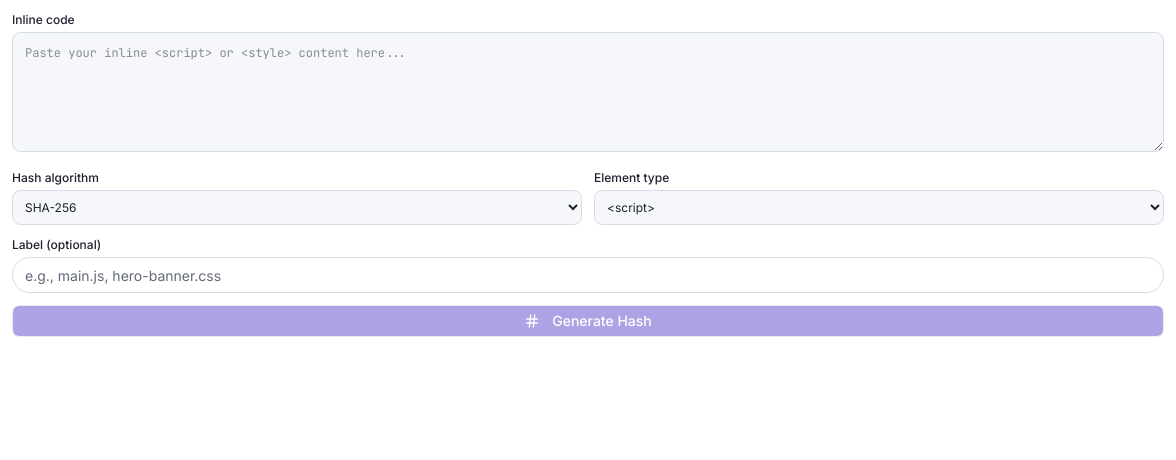
Scenario: <HashGenerator /> › shows the shield icon when hash is generated
The image size is (1176, 460).
Type "test code" into the text box with test id "hash-code-input" at (588, 92), box [12,32,1164,152]
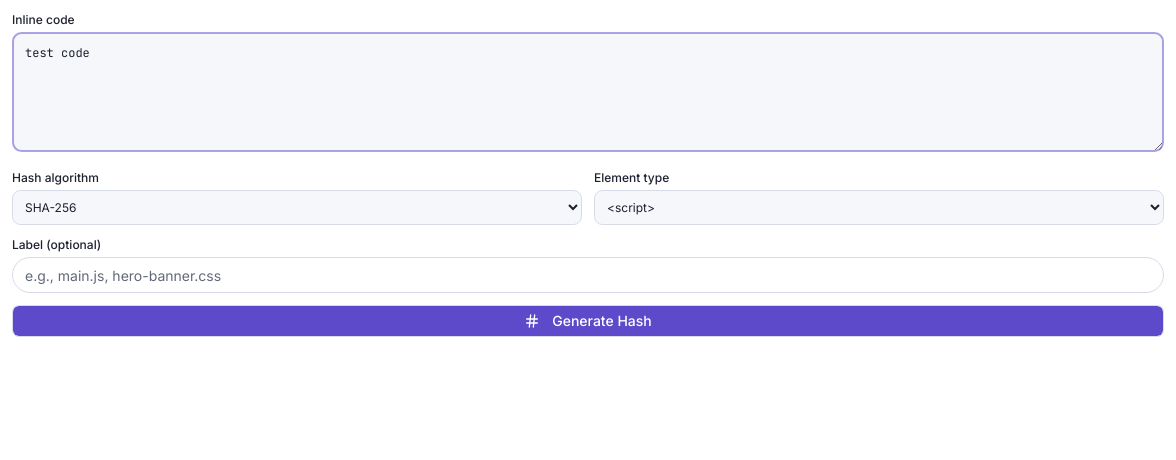
Click the button with test id "hash-generate-button" at (588, 321), box [12,305,1164,337]
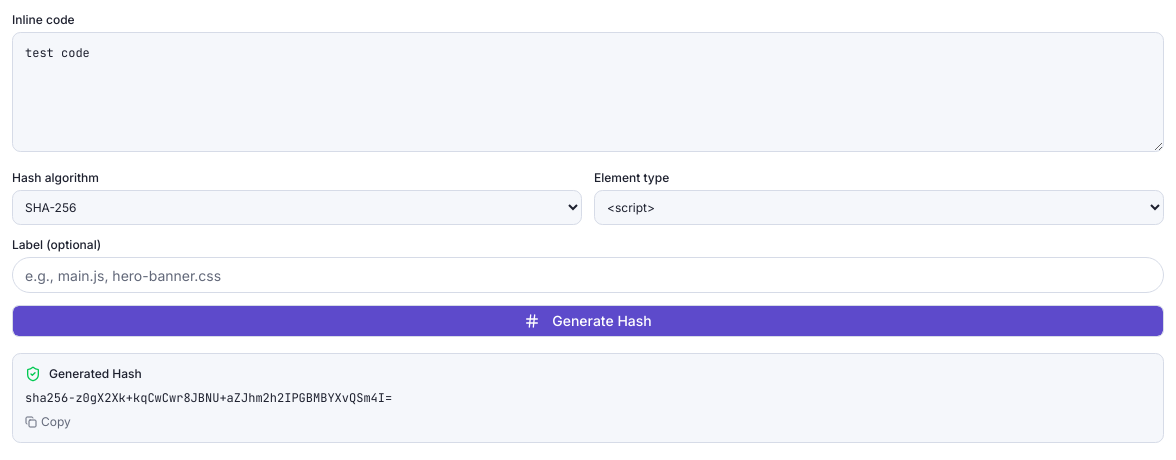
Now the element with test id "hash-result" is shown, box [12,353,1164,443]
Now the icon with test id "hash-shield-icon" is shown, box [25,366,41,382]
